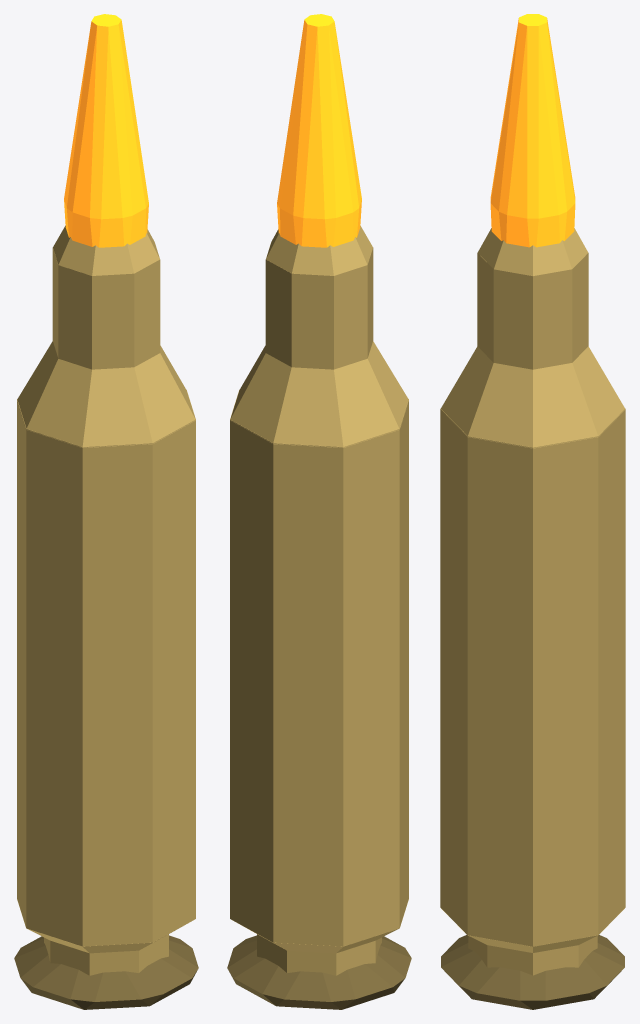
The model's file is HeavyBulletItem.fbx.
3 renders of one model, left to right at view 1: azimuth 30°, elevation 25°; view 2: azimuth 150°, elevation 25°; view 3: azimuth 270°, elevation 25°, orthographic.
Parts seen in each view (by area): view 1: Cone.001, Cone.003; view 2: Cone.001, Cone.003; view 3: Cone.001, Cone.003.
Boxes of the visible parts, box(x1,y1,x2,y2) form: Cone.001: box(14, 225, 198, 1009); Cone.003: box(64, 14, 148, 247); Cone.001: box(227, 225, 411, 1009); Cone.003: box(277, 14, 361, 247); Cone.001: box(440, 228, 625, 1009); Cone.003: box(490, 14, 575, 247).
Size of the model in its own units: 37.95 by 215 by 37.95.
